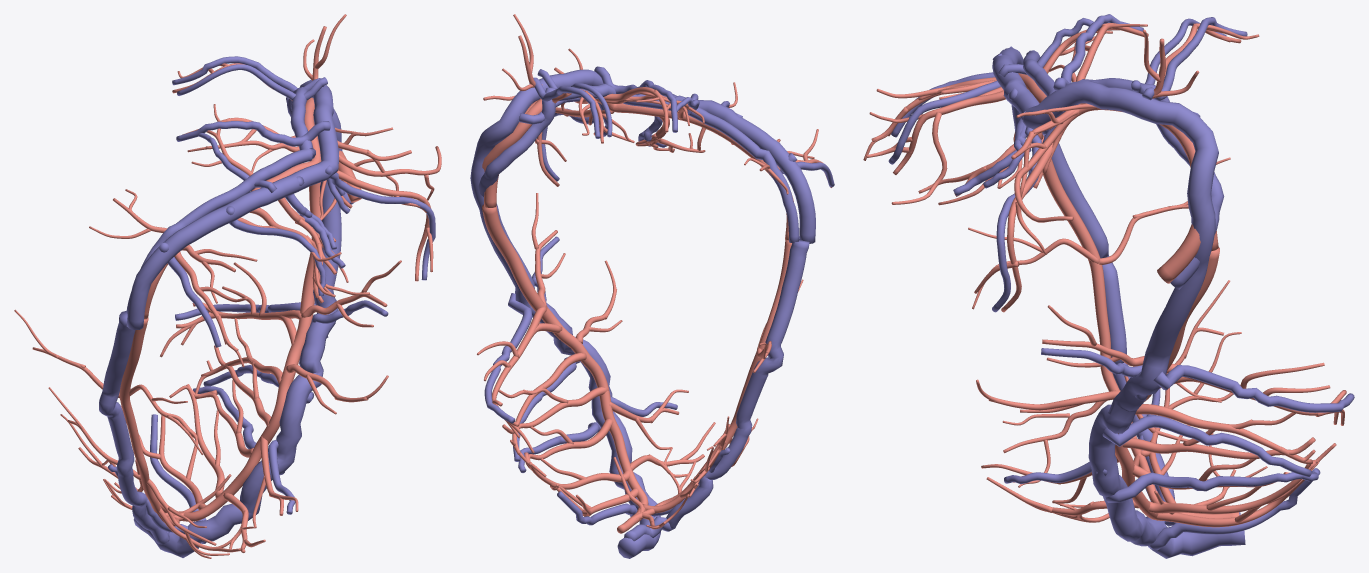
File: vessels_70.glb
3 renders of one model, left to right at view 1: azimuth 30°, elevation 25°; view 2: azimuth 150°, elevation 25°; view 3: azimuth 270°, elevation 25°, orthographic. The views are drawn at different scales.
Parts seen in each view (by area): view 1: Renderer Node; view 2: Renderer Node; view 3: Renderer Node.
Part boxes in pixels (bbox=[...]): Renderer Node: bbox=[14, 14, 441, 558]; Renderer Node: bbox=[470, 14, 834, 558]; Renderer Node: bbox=[863, 14, 1354, 558].
Size of the model in its own units: 90.84 by 124 by 89.47.
